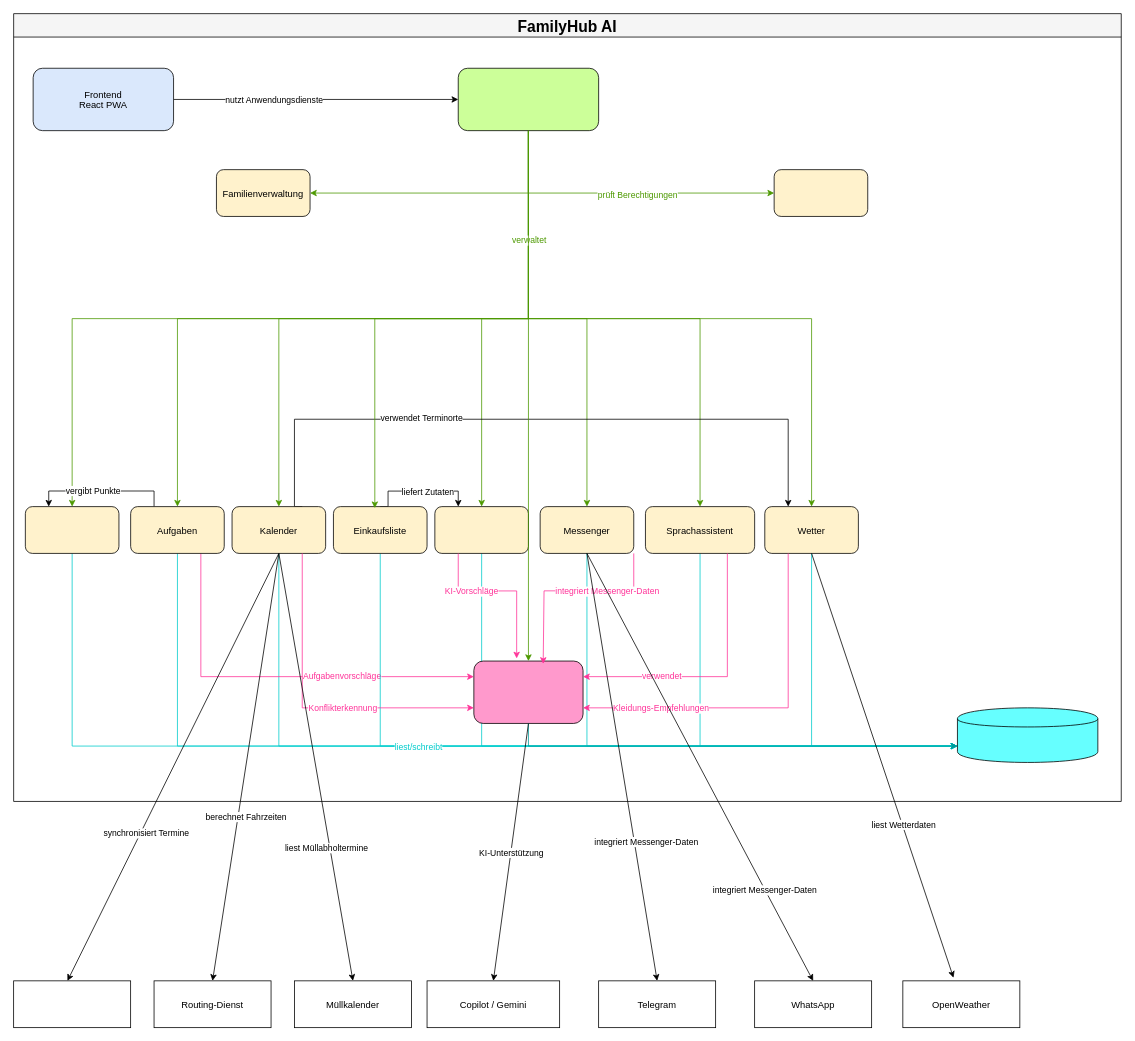
The diagram is 1135 pixels wide and 1041 high, and some of its shapes have lost their labels. Here are the shapes that lost their labels. From the top down, the centre of each, then its label:
[528,99]: Backend API .NET
[820,192]: Rollen und Rechte
[72,529]: Punktesystem
[481,529]: Essensplanung
[528,691]: KI-Agent
[1027,734]: SQLite
[72,1004]: Google Kalender
